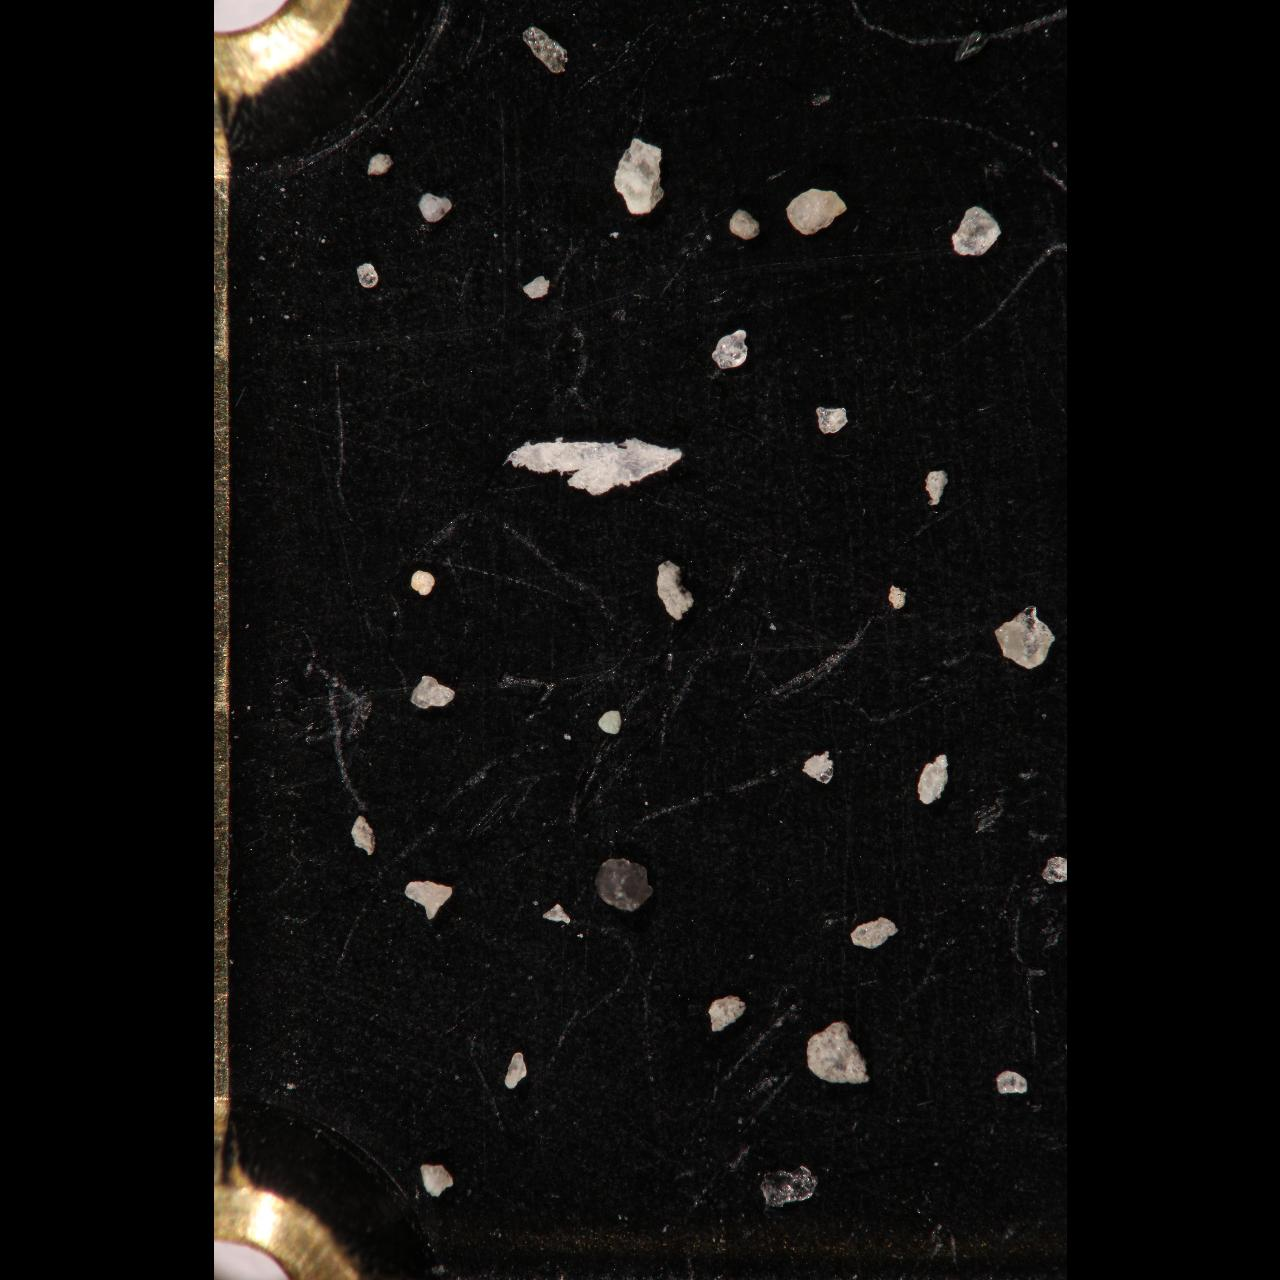Sediment: (499, 437, 685, 497), (613, 135, 666, 215), (806, 1020, 870, 1085), (993, 602, 1055, 668), (783, 185, 847, 237), (595, 856, 654, 912), (754, 1160, 818, 1208), (949, 205, 1001, 259), (656, 559, 695, 621), (523, 25, 570, 75), (403, 878, 452, 920), (915, 753, 951, 806), (851, 913, 899, 951), (709, 328, 749, 369), (408, 675, 456, 709), (708, 994, 745, 1034), (417, 1163, 455, 1199), (801, 749, 835, 785), (418, 190, 452, 224), (729, 207, 762, 241), (813, 404, 849, 436), (350, 813, 376, 856), (502, 1050, 527, 1090), (994, 1069, 1028, 1096), (926, 468, 948, 506), (366, 150, 394, 178), (595, 708, 622, 736), (522, 273, 551, 299), (1042, 855, 1065, 886), (540, 903, 572, 926), (355, 261, 379, 288), (887, 583, 907, 613)
agglutinated: (410, 567, 436, 599)
